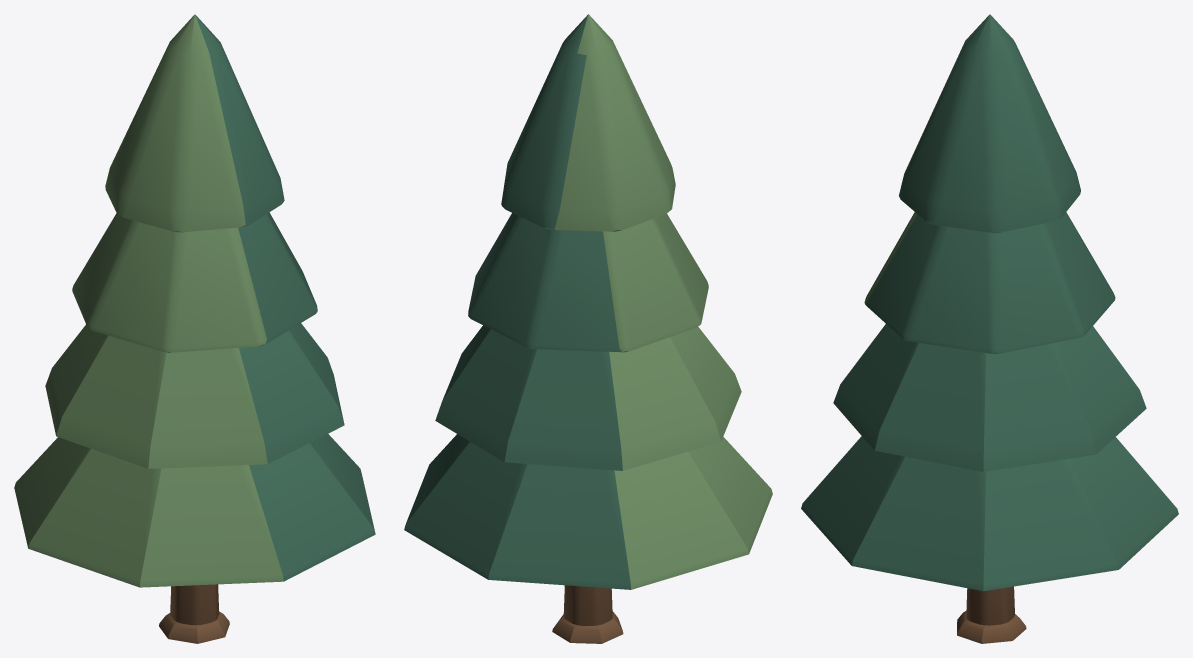
File: Tree_B.fbx
The picture shows the model from 3 angles, left to right: view 1: azimuth 30°, elevation 25°; view 2: azimuth 150°, elevation 25°; view 3: azimuth 270°, elevation 25°; orthographic projection.
Parts seen in each view (by area): view 1: Tree_B; view 2: Tree_B; view 3: Tree_B.
Part boxes in pixels (x1,y1,x2,y2): Tree_B: (14,14,375,643); Tree_B: (404,14,772,643); Tree_B: (801,14,1178,643).
Bounding box in the file's own units: 2.12 × 3.81 × 2.12.
